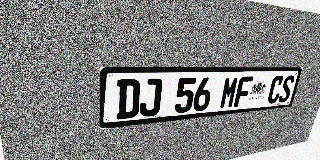5: (174, 78, 196, 114)
6: (192, 77, 214, 112)
C: (266, 76, 285, 104)
D: (116, 79, 141, 120)
F: (233, 76, 253, 107)
J: (139, 78, 163, 117)
M: (219, 77, 239, 109)
S: (277, 75, 296, 103)
